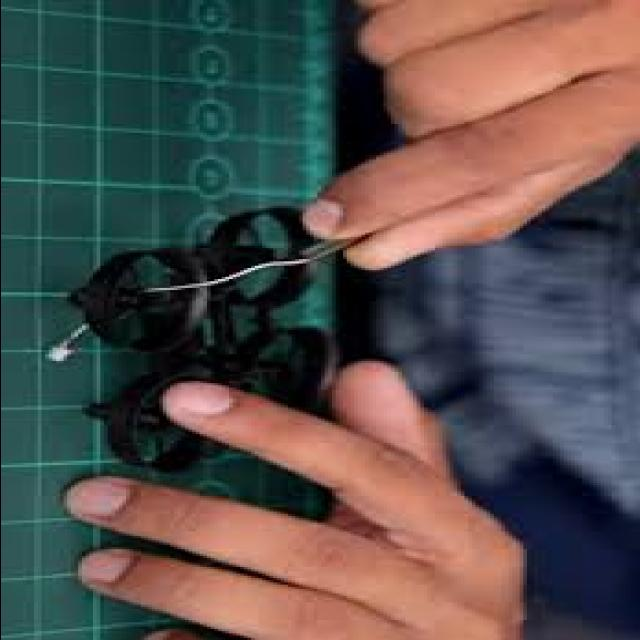drone: (62, 194, 350, 482)
